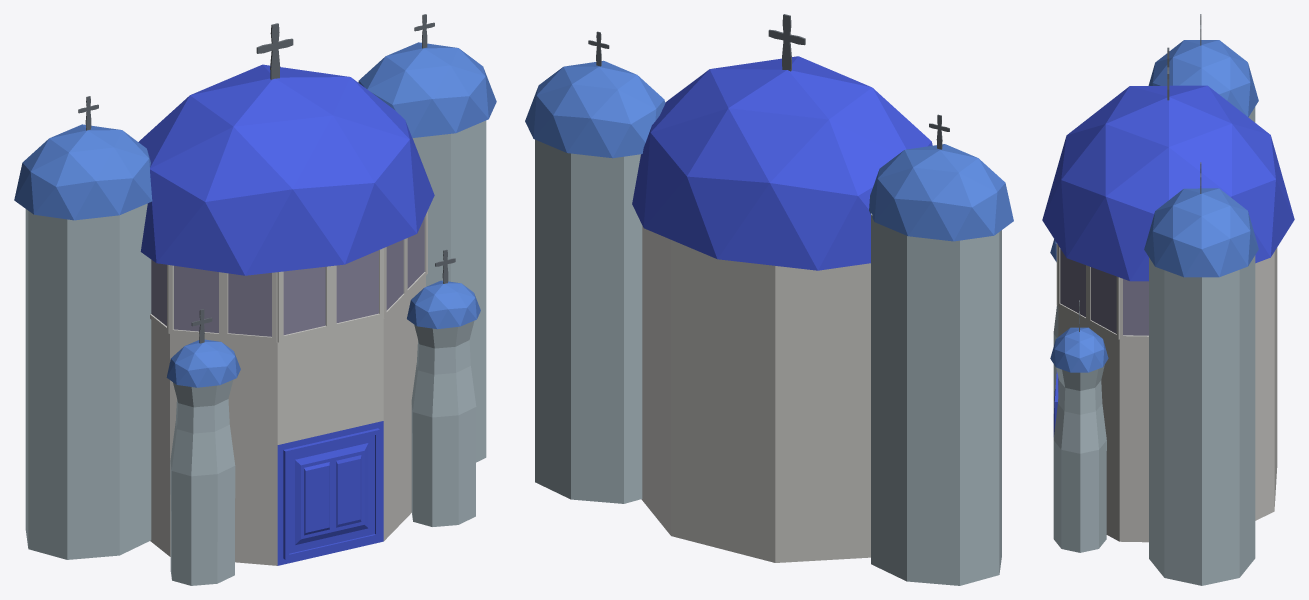
The model's file is church.obj.
3 renders of one model, left to right at view 1: azimuth 30°, elevation 25°; view 2: azimuth 150°, elevation 25°; view 3: azimuth 270°, elevation 25°, orthographic. The views are drawn at different scales.
Parts seen in each view (by area): view 1: church; view 2: church; view 3: church.
Boxes of the visible parts, x1,y1,x2,y2 form: church: (14, 14, 496, 585); church: (525, 14, 1013, 585); church: (1042, 14, 1294, 585).
Bounding box in the file's own units: 3.8 × 3.8 × 1.98.
